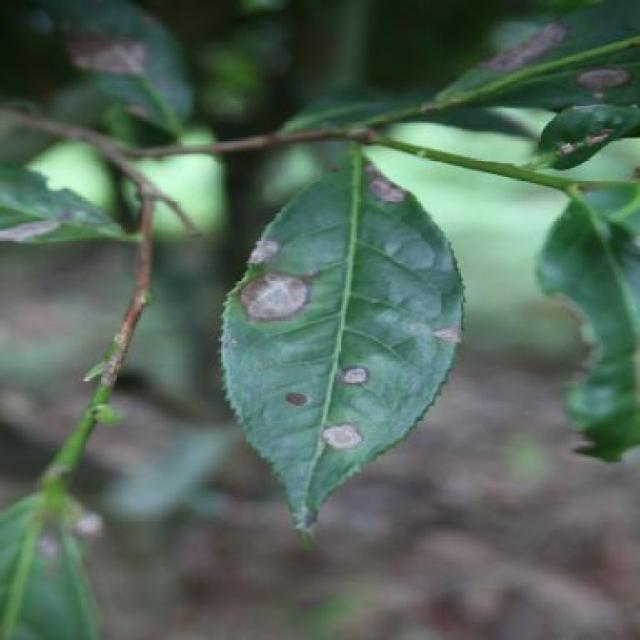Leaf rust of tea: (223, 145, 475, 520)
